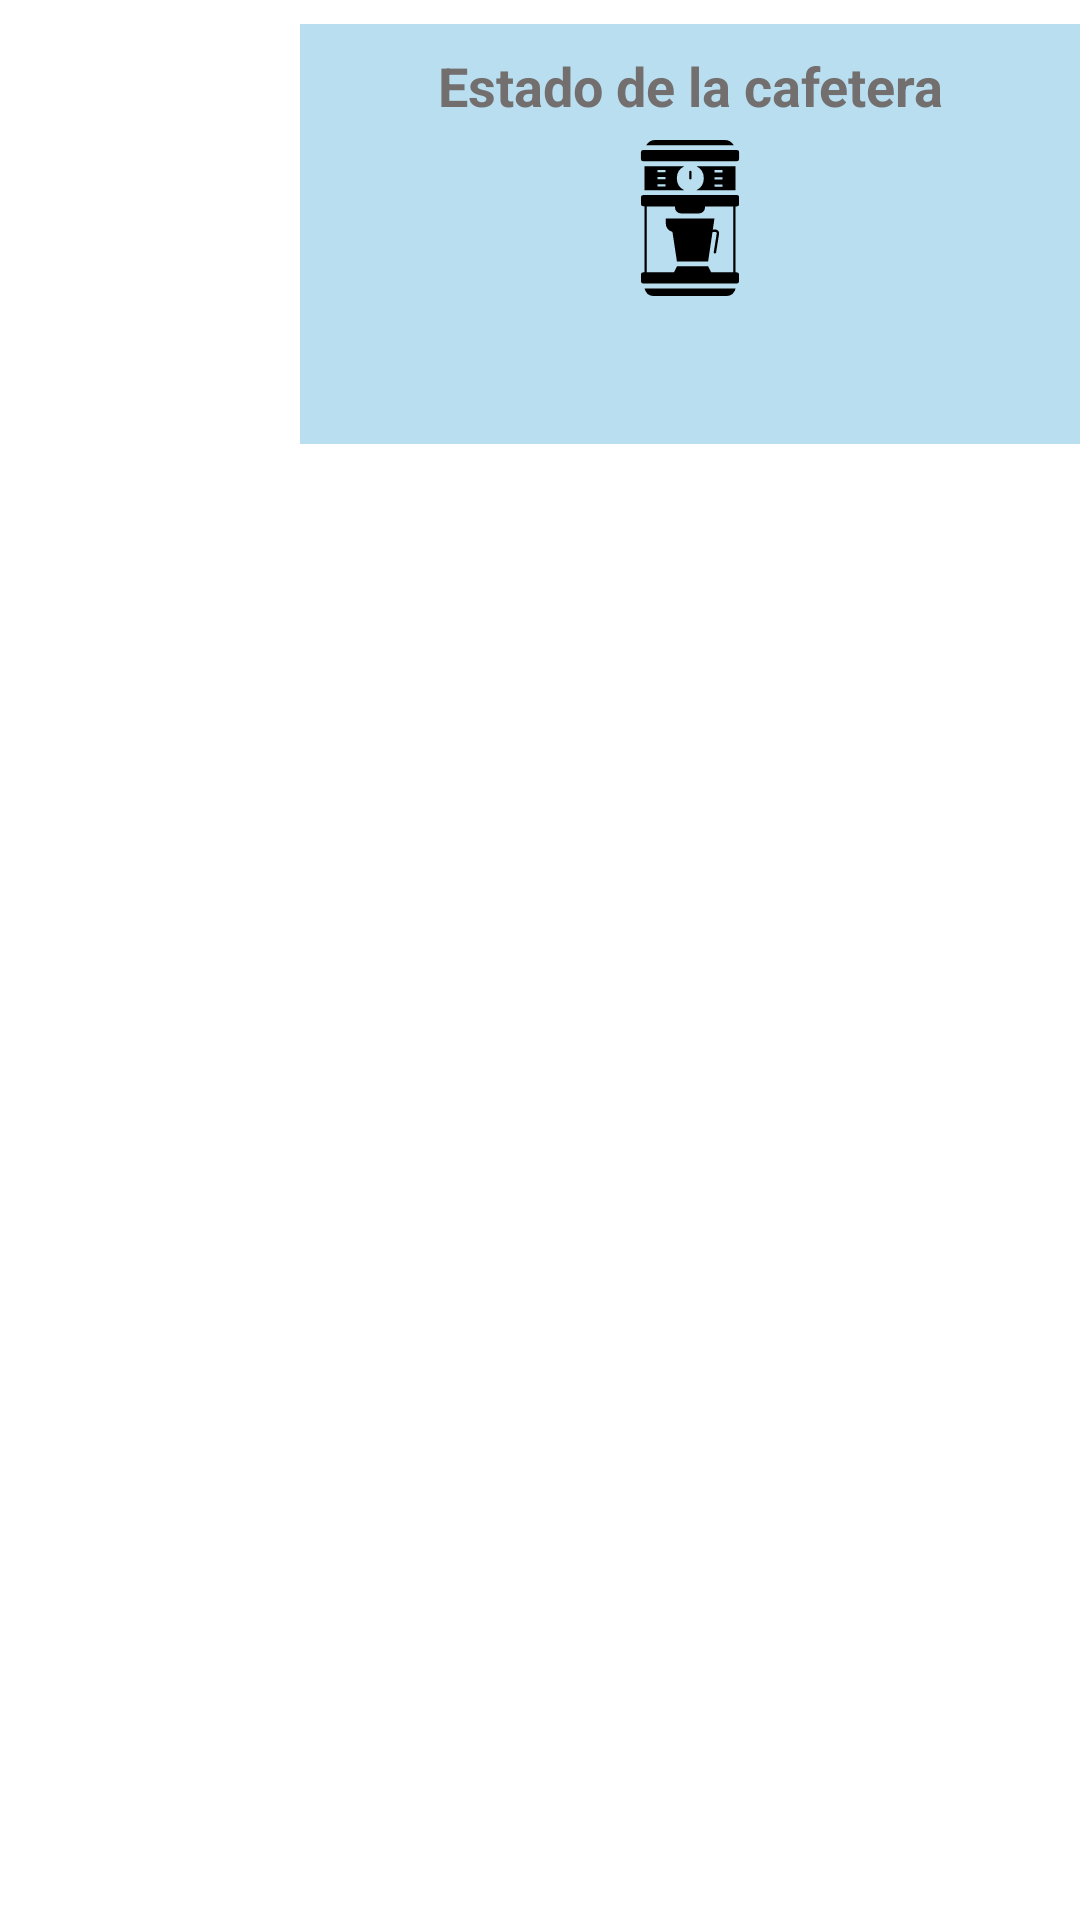

Icon bounding boxes for this 1080 x 1920 phone screenshot, format box=[x1, y1, x2, y2]:
coffee machine: box=[641, 140, 739, 296]
